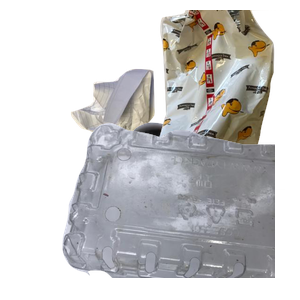glass: (115, 120, 300, 300)
paper: (68, 66, 215, 197)
plastic: (60, 120, 300, 300)
trash: (127, 10, 300, 190)
